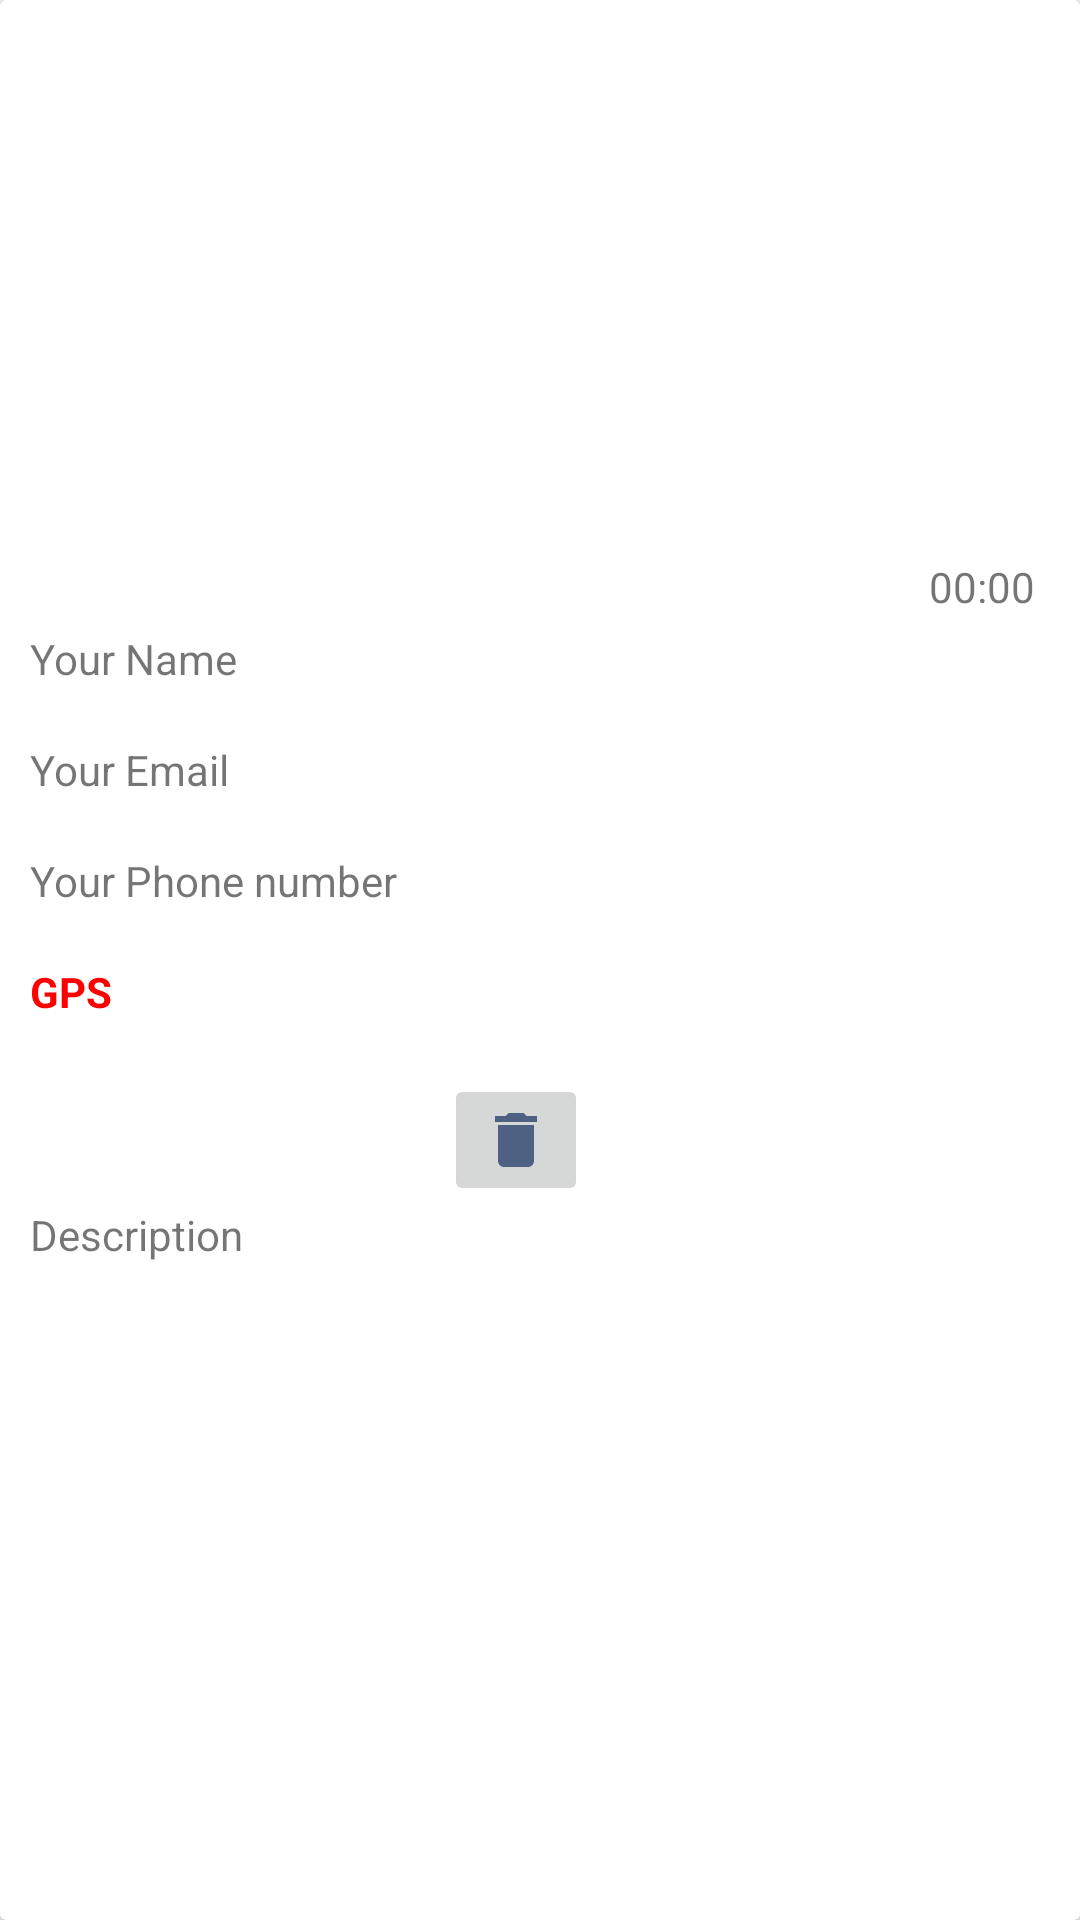

Icon click points for this 1080*1920 phone screenshot, format (x=x, y=y):
delete: (x=516, y=1140)
